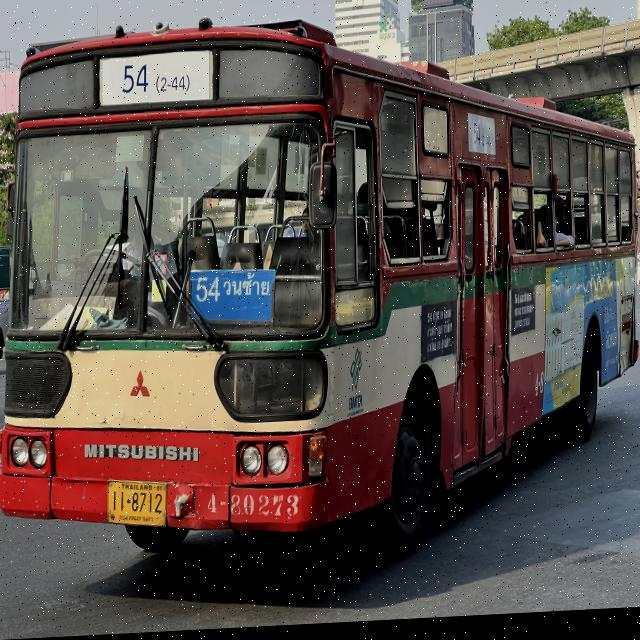BMTA-bus: (0, 6, 640, 582)
Bus-Line-Number: (100, 51, 212, 109)
Destination-Sign-Normal: (189, 260, 276, 334)
